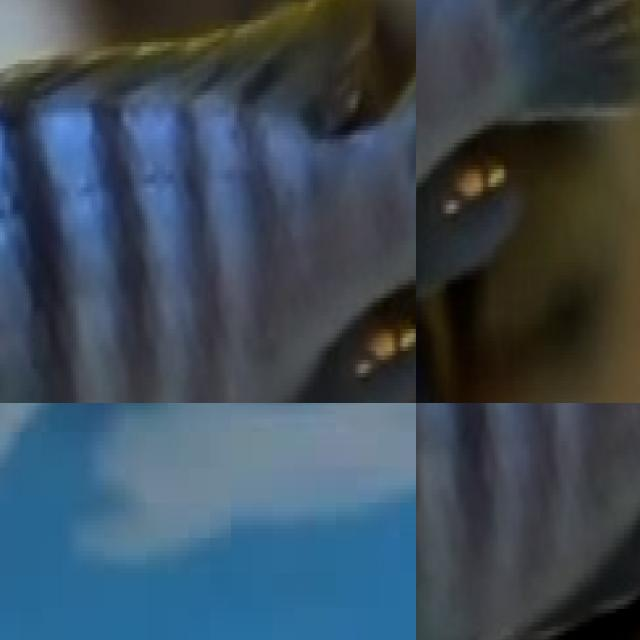fish: (0, 0, 416, 403), (416, 0, 640, 403), (416, 403, 640, 640)
